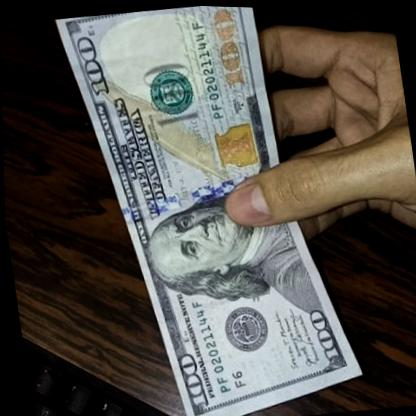one_hundred-front: (63, 1, 366, 416)
